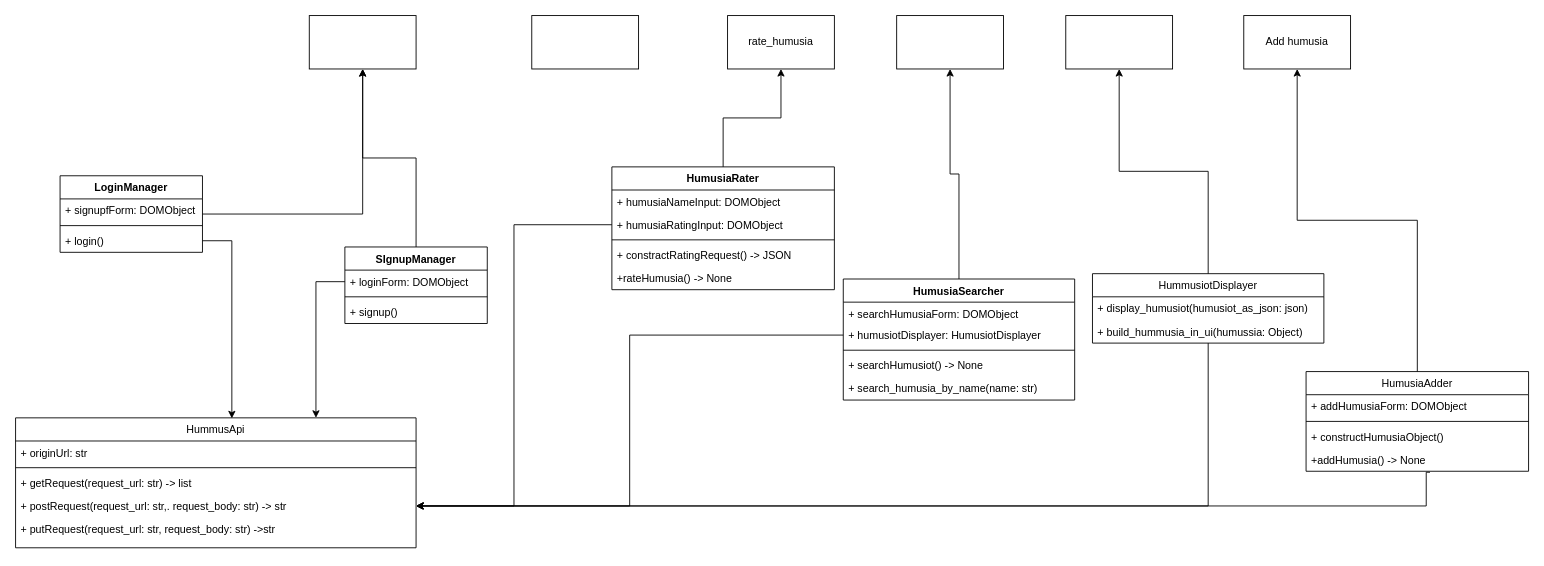
Some shapes in this 1544 by 566 pixel diagram are drawn without their labels. The centre of each missing label's shape, as x and y in pixels:
"Authentication" belongs at pixel 362 42.
"Homepage" belongs at pixel 1119 42.
"Navbar" belongs at pixel 585 42.
"Search_humussia" belongs at pixel 949 42.
